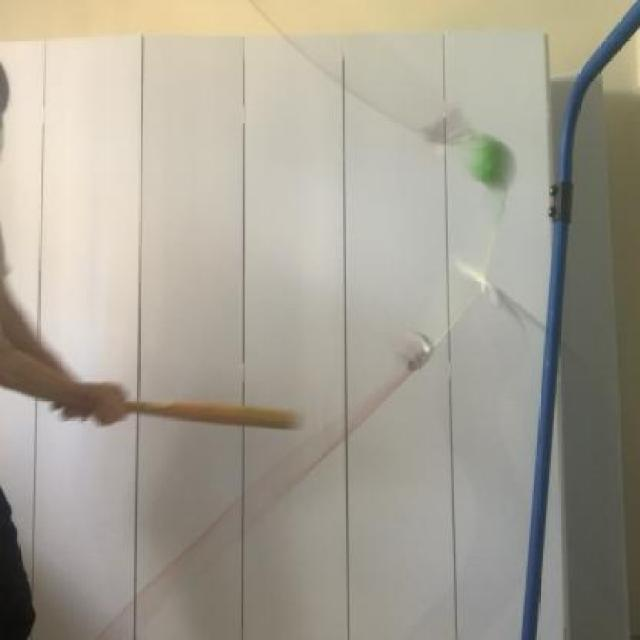baseball: (453, 124, 524, 205)
